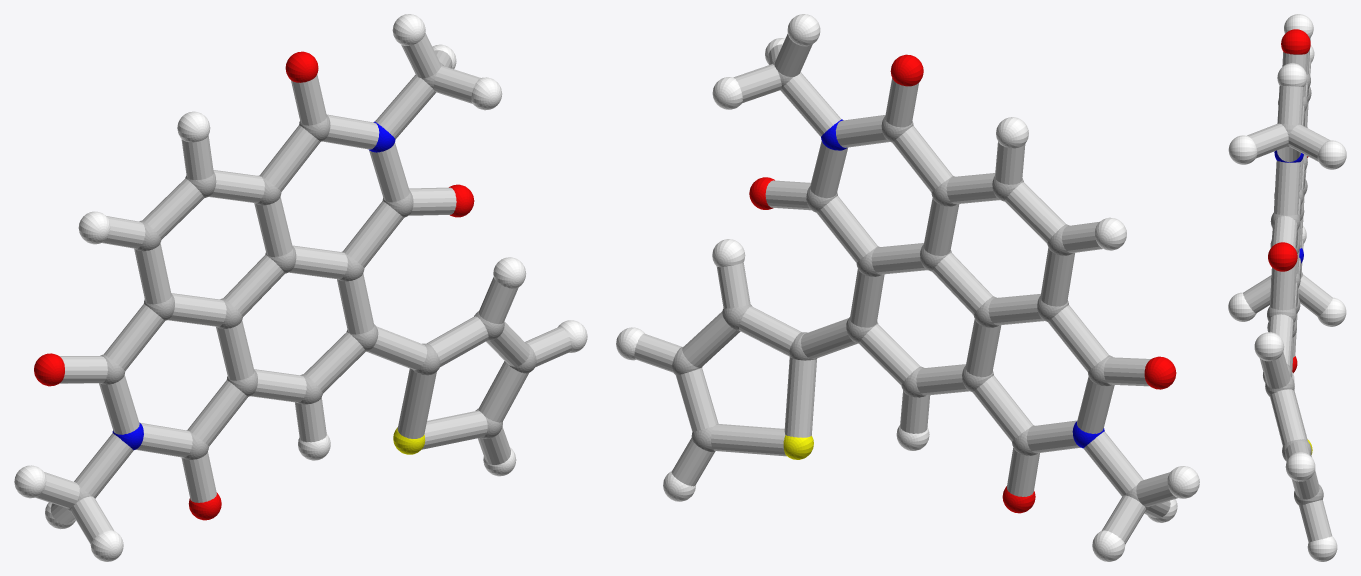
Rendered from Dimethyl_Naphthalene_Dicarboximide_Phi_15_Theta_10_Thiophene.glb.
3 views of the same model, side by side, from view 1: azimuth 30°, elevation 25°; view 2: azimuth 150°, elevation 25°; view 3: azimuth 270°, elevation 25° (orthographic). The views are drawn at different scales.
Visible parts, largest first — view 1: grp14119, grp7241, grp1, grp12309, grp11585; view 2: grp14119, grp7241, grp1, grp12309, grp11585; view 3: grp14119, grp7241, grp1, grp12309, grp11585.
Part boxes in pixels (x1,y1,x2,y2): grp14119: (35, 33, 571, 544); grp7241: (14, 14, 587, 561); grp1: (66, 62, 536, 511); grp12309: (34, 51, 474, 520); grp11585: (112, 121, 395, 449); grp14119: (634, 33, 1177, 544); grp7241: (616, 14, 1199, 561); grp1: (672, 61, 1151, 510); grp12309: (749, 54, 1176, 513); grp11585: (821, 119, 1104, 448); grp14119: (1243, 38, 1332, 542); grp7241: (1228, 14, 1346, 561); grp1: (1263, 73, 1323, 505); grp12309: (1268, 29, 1310, 373); grp11585: (1274, 150, 1303, 263).
Bounding box in the file's own units: 12.06 × 10 × 2.39.
